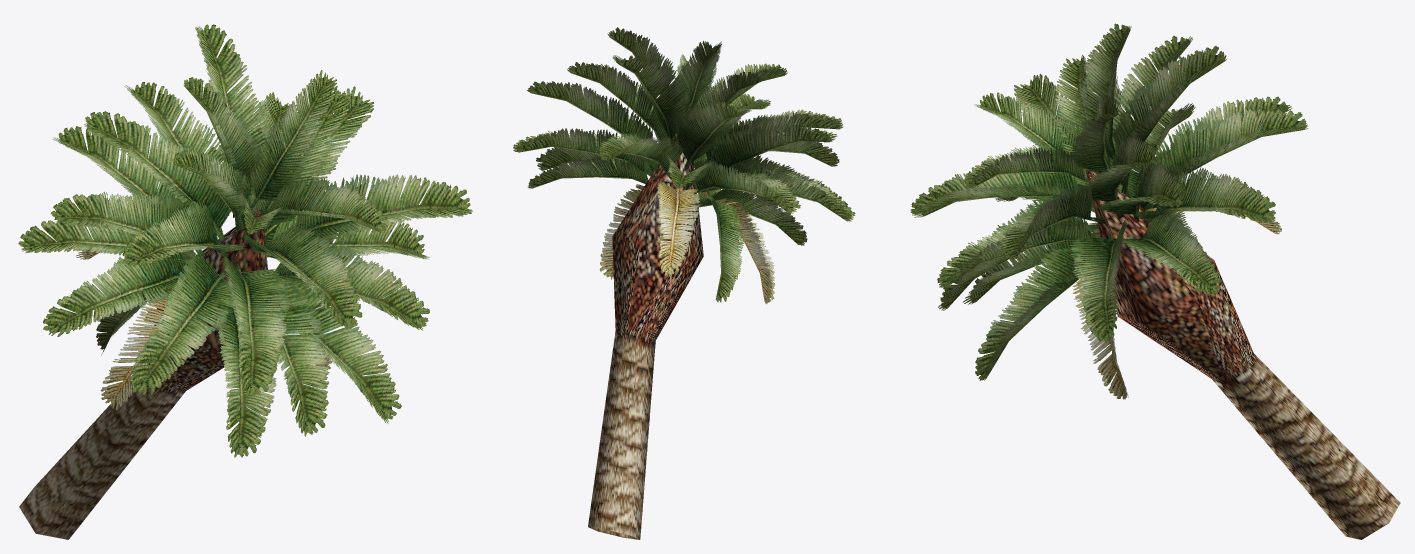
Rendered from tree_cretan_date_palm_08.glb.
3 views of the same model, side by side, from view 1: azimuth 30°, elevation 25°; view 2: azimuth 150°, elevation 25°; view 3: azimuth 270°, elevation 25° (orthographic). The views are drawn at different scales.
Parts seen in each view (by area): view 1: tree_cretan_date_palm_08; view 2: tree_cretan_date_palm_08; view 3: tree_cretan_date_palm_08.
Part boxes in pixels (left/top/right/bottom): tree_cretan_date_palm_08: left=18, top=24, right=472, bottom=539; tree_cretan_date_palm_08: left=513, top=27, right=855, bottom=539; tree_cretan_date_palm_08: left=910, top=23, right=1400, bottom=539.
Bounding box in the file's own units: 8.03 × 10.71 × 9.21.
1 material, 1 textured.
